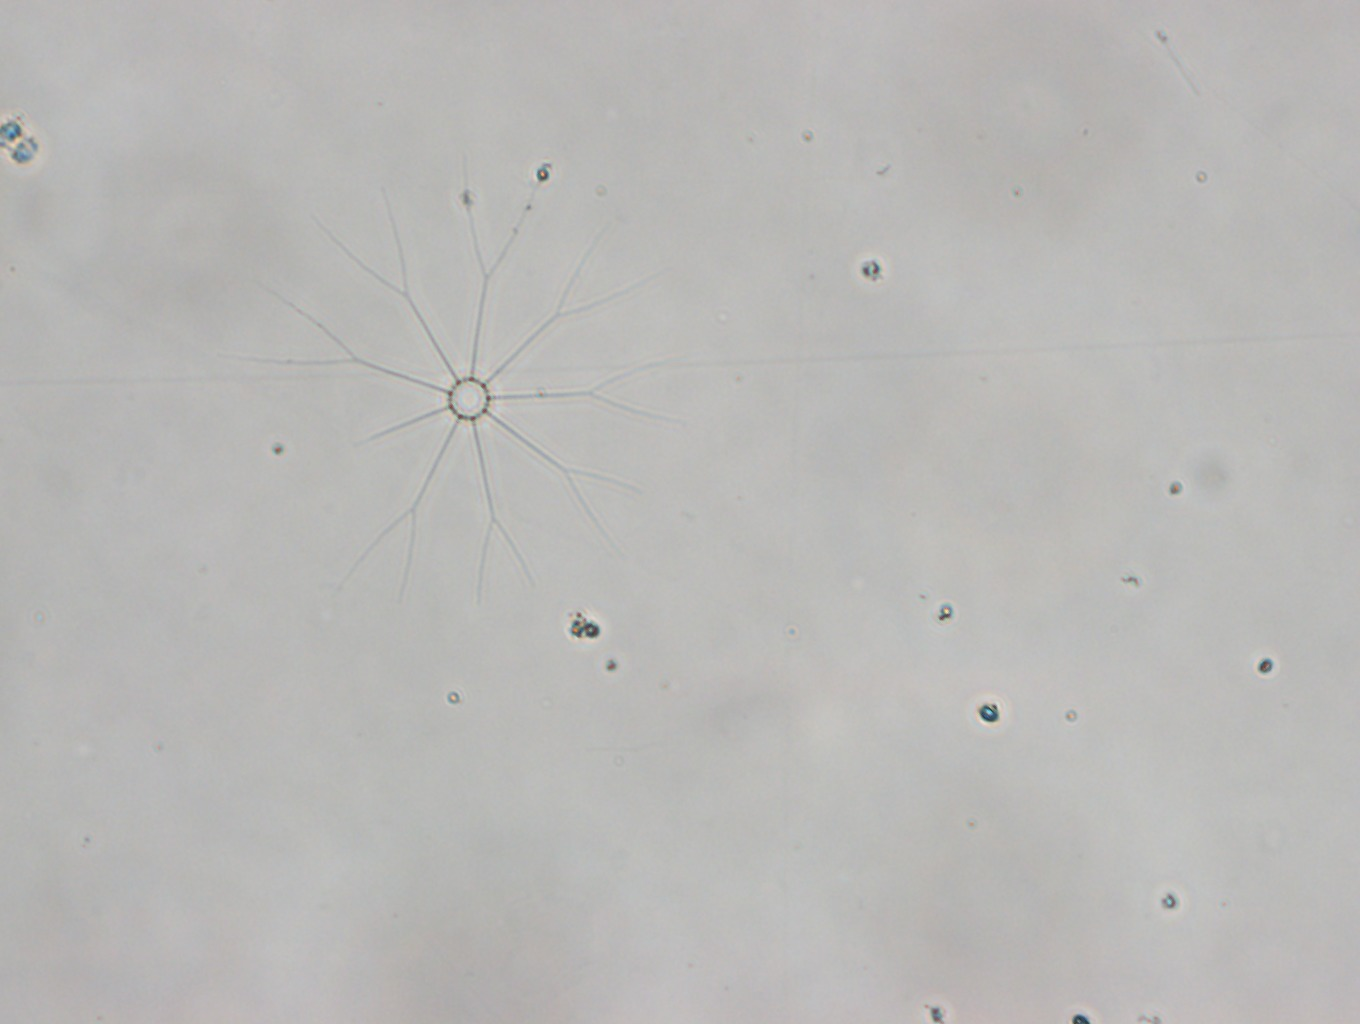bacteriastrum: (224, 150, 697, 612)
